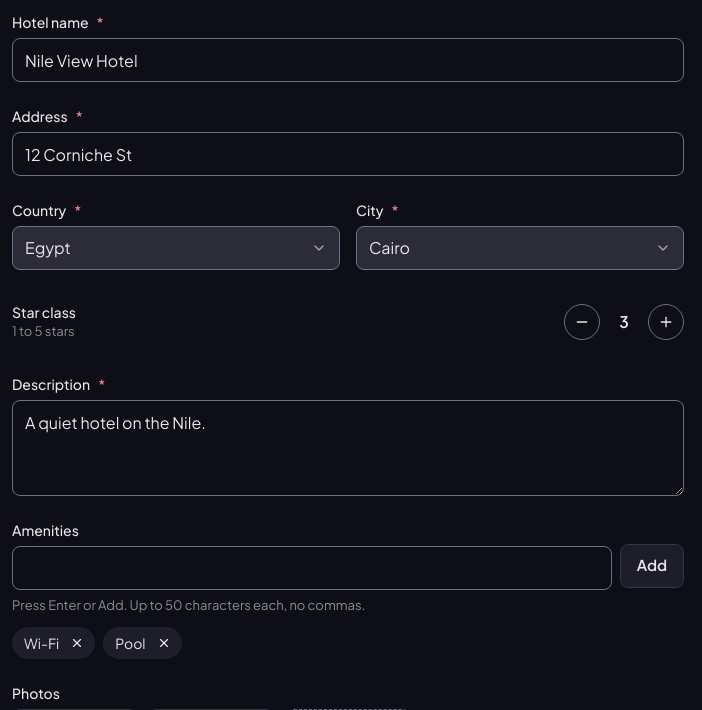
choosing another country lists that country's cities
Press Enter in the dropdown named "country", box [12, 226, 340, 270]
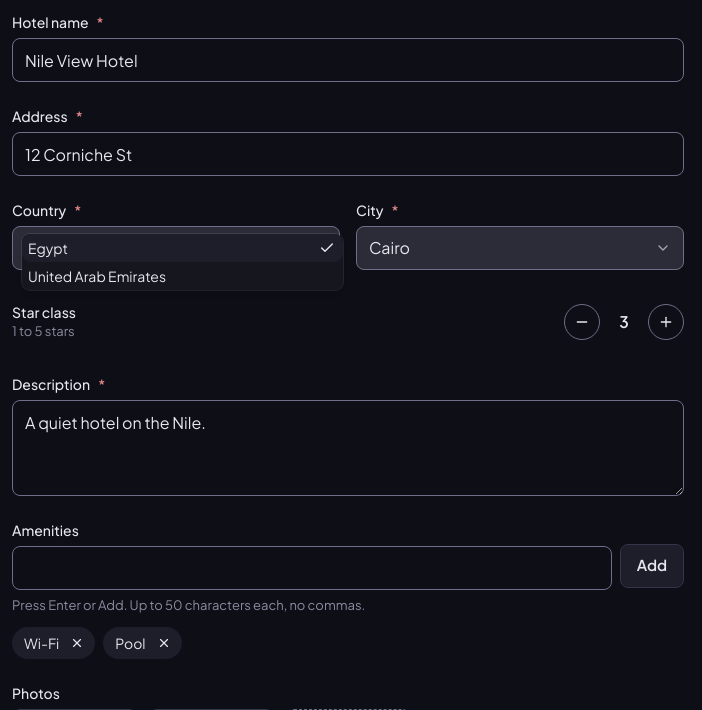
Click the option "United Arab Emirates" at (97, 276), box [28, 267, 166, 285]
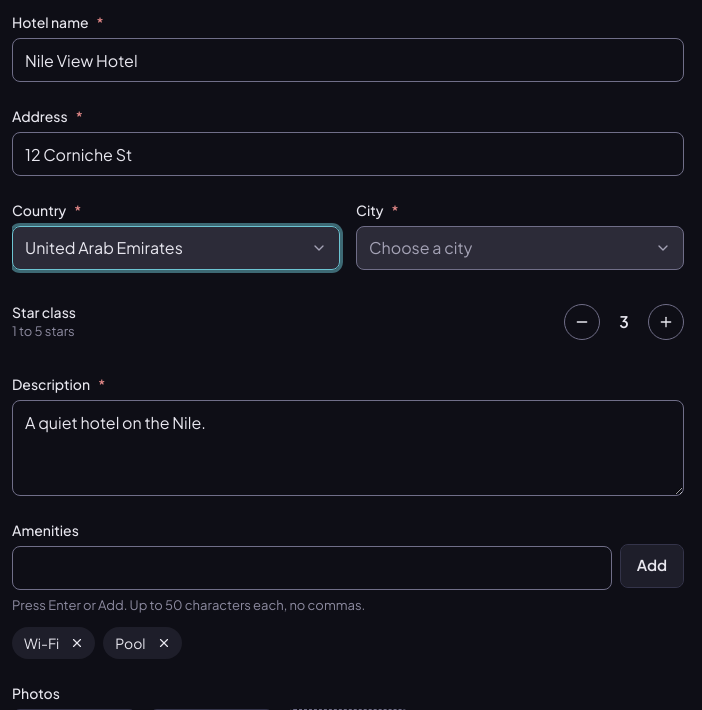
Press Enter in the dropdown labelled "Choose a city", box [356, 226, 684, 270]
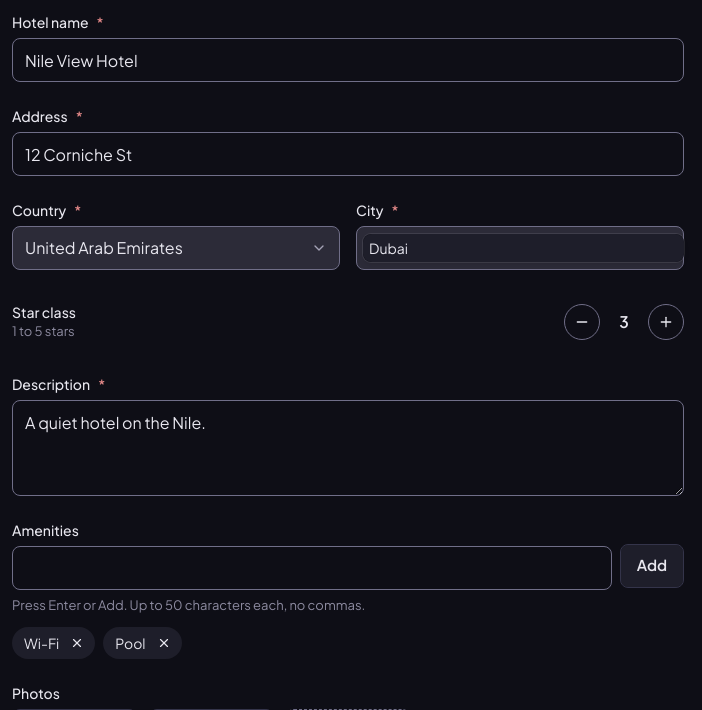
Expected: the dropdown labelled "Cairo" is not shown
Now the option "Dubai" is shown, box [363, 234, 684, 262]
